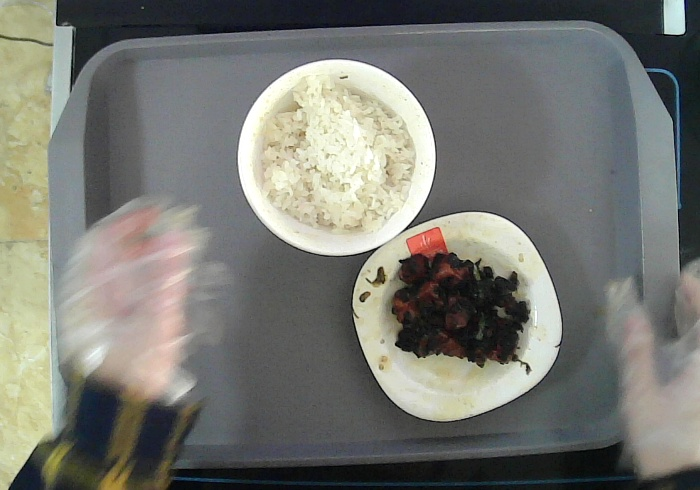SHKJ-Bai_Se_Si_Fang_Cai_Die: (348, 206, 570, 428)
SHKJ-Fan_Wan: (229, 52, 443, 265)
